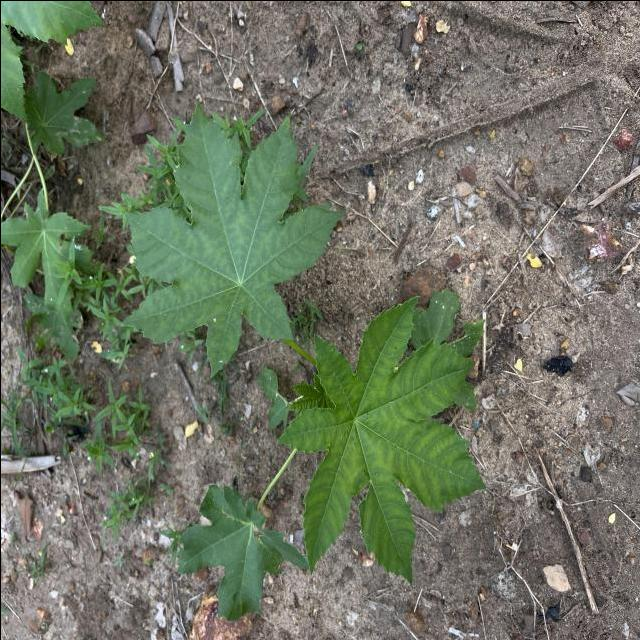Ricinus communis linn: (272, 288, 488, 592), (117, 95, 347, 380)
